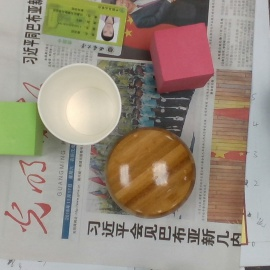chess: (99, 126, 195, 221)
cup: (37, 63, 122, 147), (43, 2, 129, 56)
